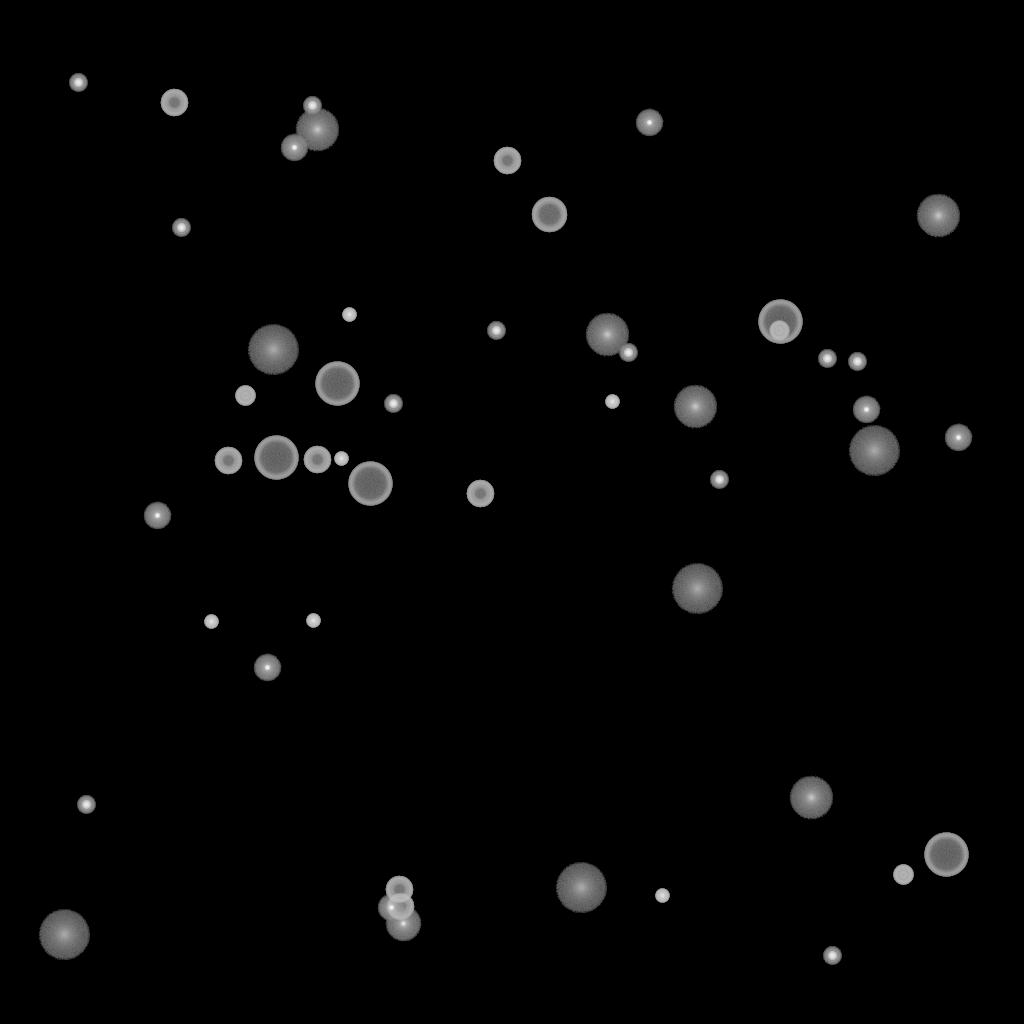depth:-10: (143, 502, 171, 530), (377, 894, 405, 922), (253, 654, 281, 682), (280, 134, 308, 162), (852, 396, 880, 424), (635, 109, 663, 137), (944, 424, 972, 452)
depth:-20: (303, 97, 321, 115), (172, 219, 190, 237), (69, 74, 87, 92), (77, 796, 95, 814), (823, 947, 841, 965), (710, 471, 728, 489), (818, 350, 836, 368), (384, 395, 402, 413), (619, 344, 637, 362), (848, 353, 866, 371), (487, 322, 505, 340)
depth:-30: (605, 395, 619, 409), (334, 452, 348, 466), (306, 614, 320, 628), (204, 615, 218, 629), (655, 889, 669, 903), (342, 308, 356, 322)
depth:-40: (235, 386, 255, 406), (769, 321, 789, 341), (893, 865, 913, 885)
depth:-50: (386, 893, 414, 921), (493, 147, 521, 175), (214, 447, 242, 475), (303, 446, 331, 474), (385, 876, 413, 904), (466, 480, 494, 508), (160, 89, 188, 117)
depth:-60: (531, 197, 567, 233)
depth:-70: (348, 462, 392, 506), (924, 833, 968, 877), (315, 362, 359, 406), (254, 436, 298, 480), (758, 300, 802, 344)
depth:0: (385, 906, 421, 942)
depth:10: (295, 108, 339, 152), (789, 776, 833, 820), (916, 194, 960, 238), (585, 313, 629, 357), (673, 385, 717, 429)
depth:20: (848, 426, 900, 476), (555, 863, 607, 913), (38, 910, 90, 960), (671, 564, 723, 614), (247, 325, 299, 375)
